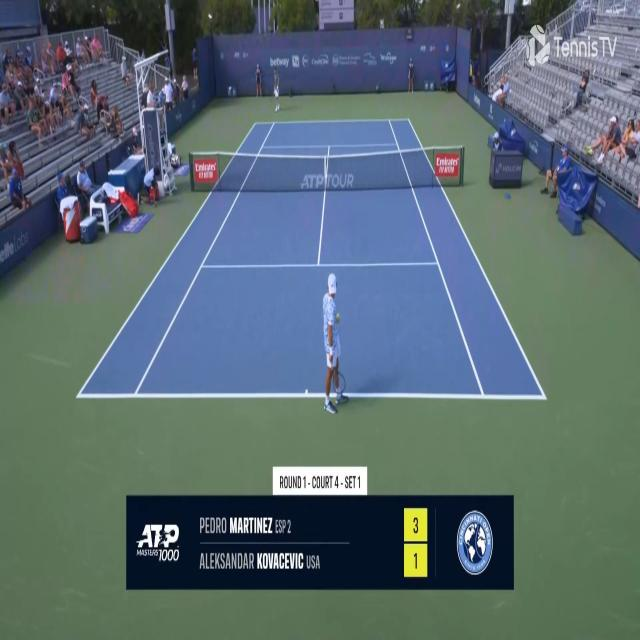tennis-player: (320, 270, 349, 416), (272, 66, 281, 112)
